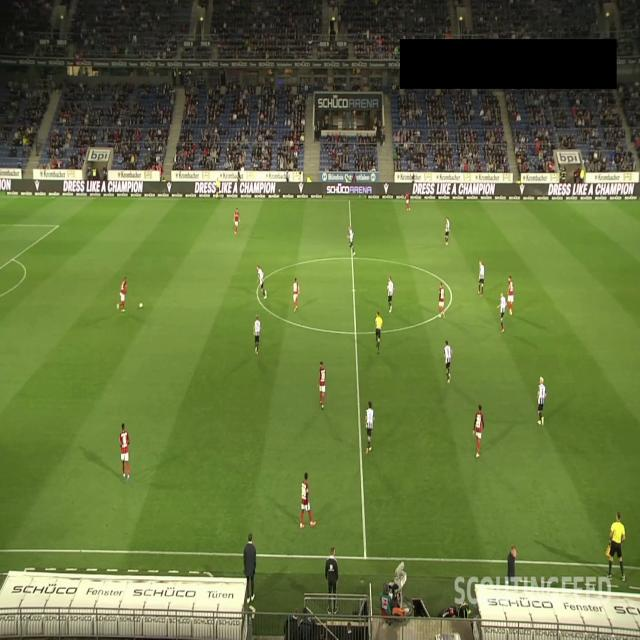ball: (138, 302, 144, 309)
player: (300, 471, 317, 529), (118, 422, 130, 483), (472, 404, 485, 458), (365, 400, 375, 454), (537, 376, 547, 426), (443, 339, 452, 384), (117, 276, 128, 312), (318, 361, 326, 409), (256, 264, 267, 298), (497, 292, 506, 332), (253, 314, 261, 356), (386, 275, 394, 313), (347, 225, 356, 258), (477, 260, 485, 297), (438, 282, 446, 319), (507, 275, 514, 316), (292, 278, 300, 312), (233, 207, 240, 236), (445, 217, 450, 246), (405, 188, 411, 212)
referee: (607, 512, 626, 582), (375, 310, 383, 354), (215, 176, 220, 199)
